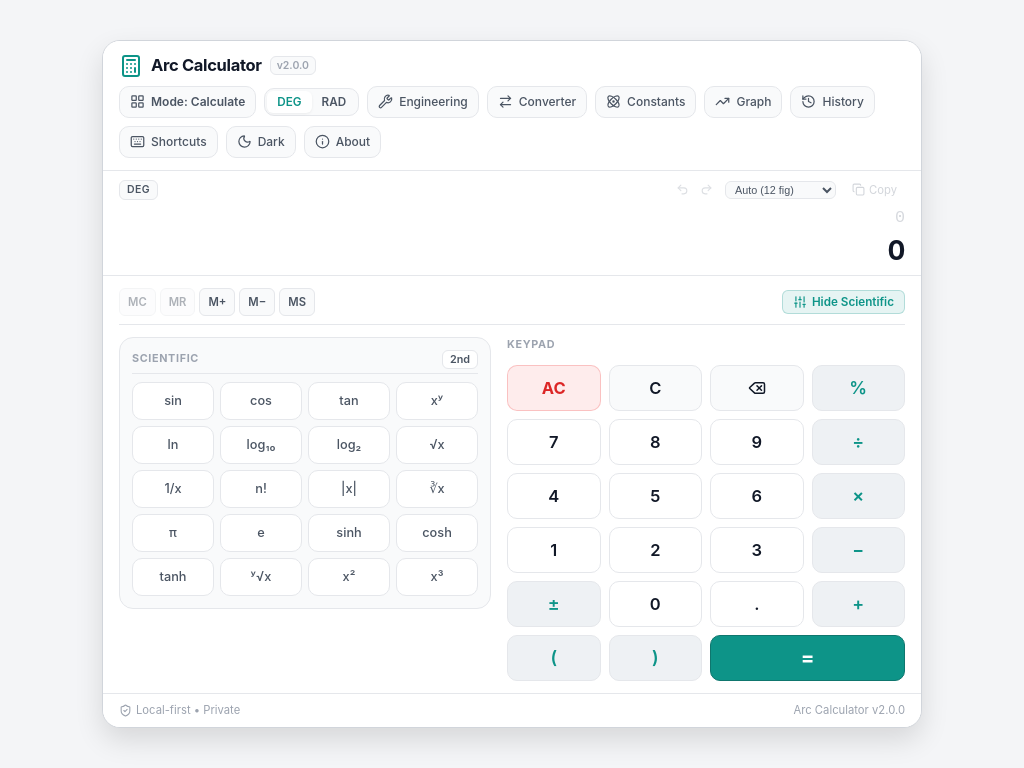
Scenario: Arc Calculator UI & Accessibility › opens scientific constants modal and displays categories
This screenshot has width=1024, height=768.
Click the button with aria-label "Scientific constants catalog": (646, 102) x1=595 y1=86 x2=696 y2=118
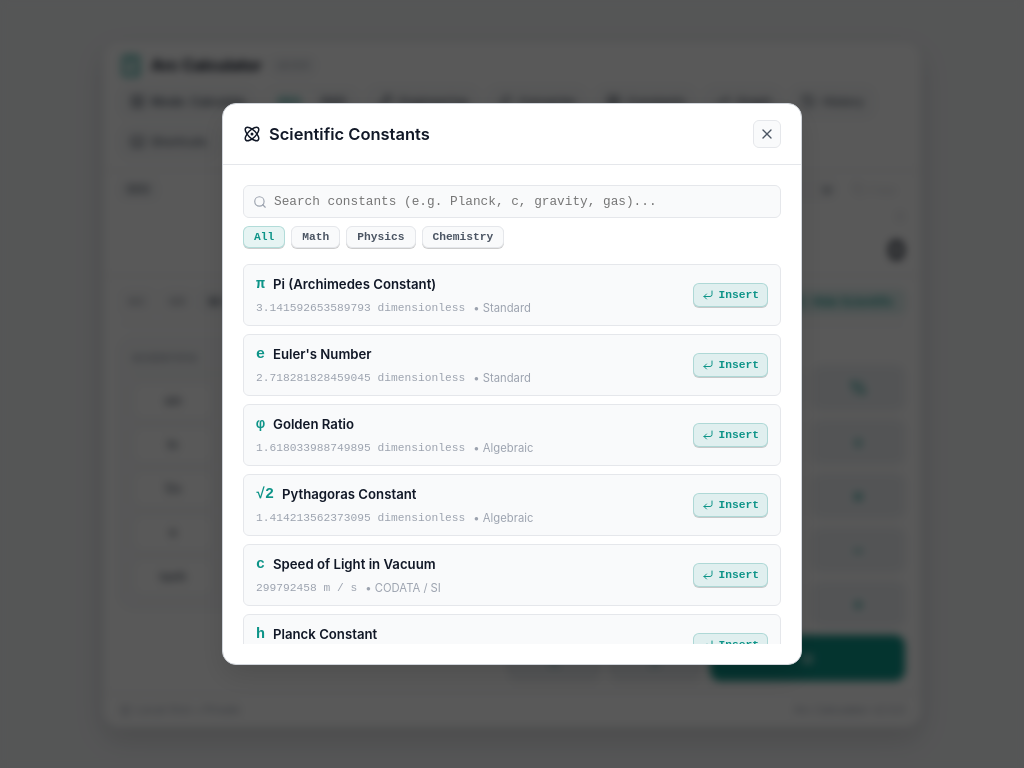
Result: the dialog "Scientific Constants" is shown
Result: the text "Speed of Light in Vacuum" is shown at x1=273 y1=554 x2=436 y2=576
